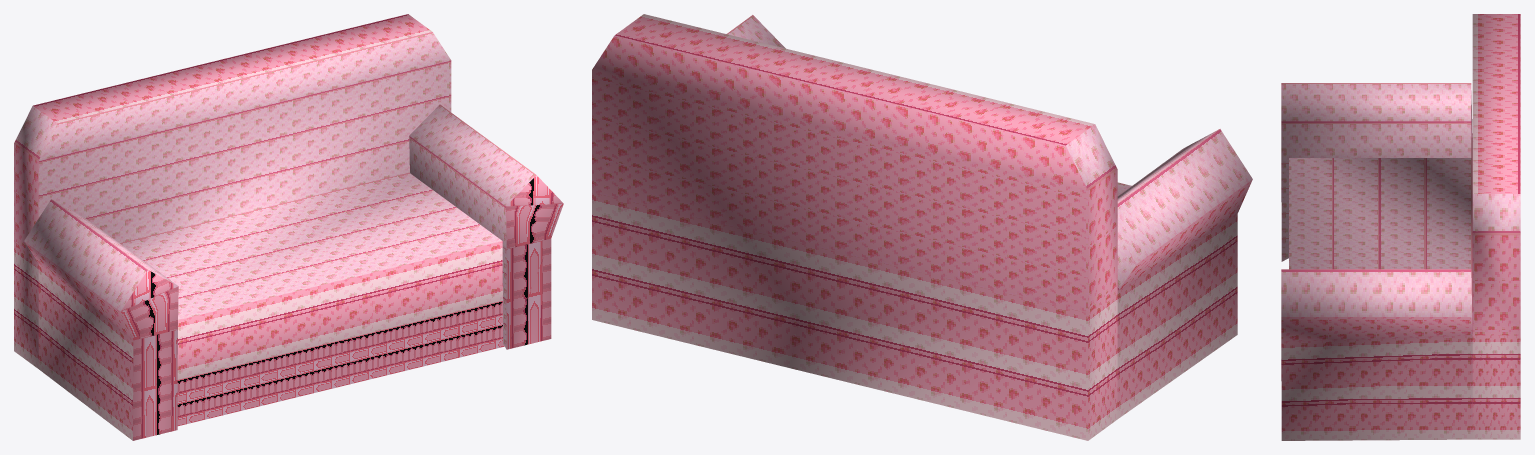
The model's file is 3076IMRL05_04.gltf.
3 views of the same model, side by side, from view 1: azimuth 30°, elevation 25°; view 2: azimuth 150°, elevation 25°; view 3: azimuth 270°, elevation 25° (orthographic). The views are drawn at different scales.
Visible parts, largest first — view 1: 3076IMRL05_04; view 2: 3076IMRL05_04; view 3: 3076IMRL05_04.
Boxes of the visible parts, x1,y1,x2,y2 form: 3076IMRL05_04: (14, 14, 563, 440); 3076IMRL05_04: (592, 14, 1252, 440); 3076IMRL05_04: (1281, 14, 1520, 440).
Size of the model in its own units: 1.92 by 1 by 0.9163.
Materials: 4 (4 with a texture image).
